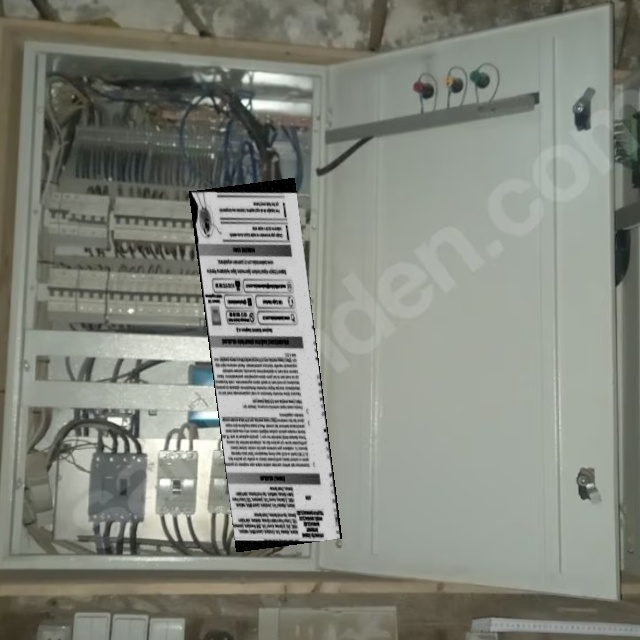electricity-bill: (188, 177, 341, 551)
